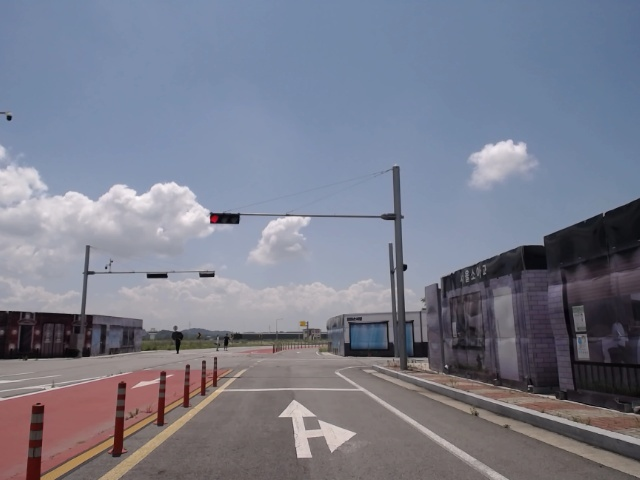red_3: (208, 212, 241, 224)
